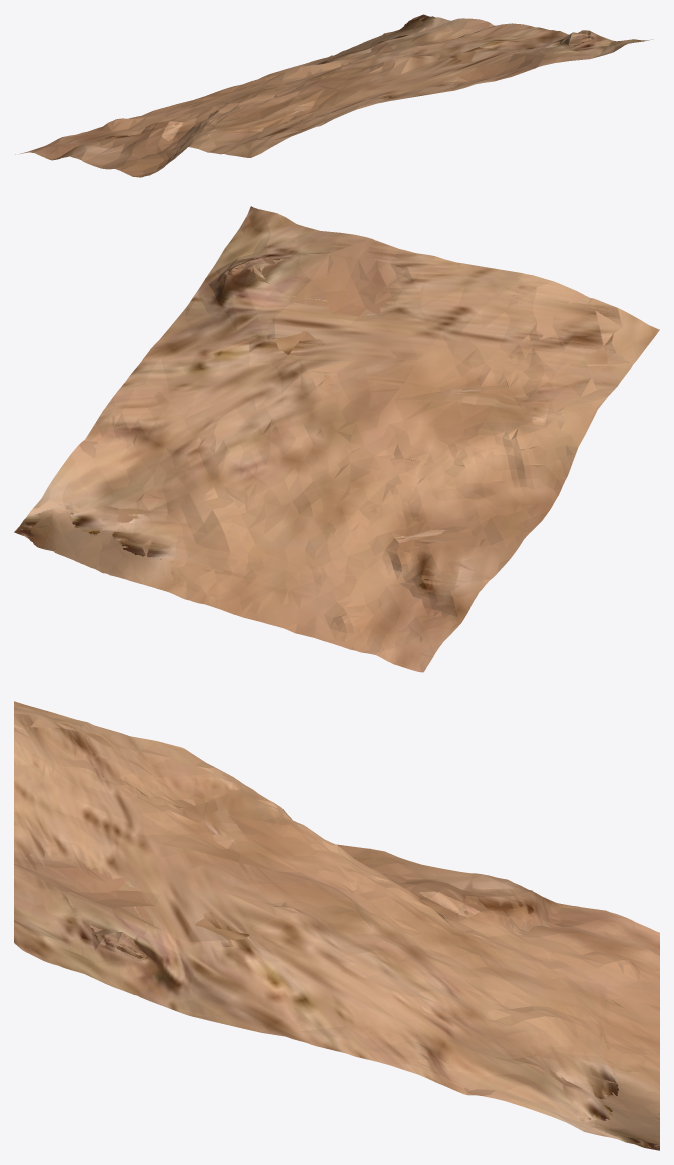
3 renders of one model, top to bottom at view 1: azimuth 30°, elevation 25°; view 2: azimuth 150°, elevation 25°; view 3: azimuth 270°, elevation 25°, orthographic. The views are drawn at different scales.
Size of the model in its own units: 1.04 by 0.4727 by 1.04.
2 materials, 2 textured.
